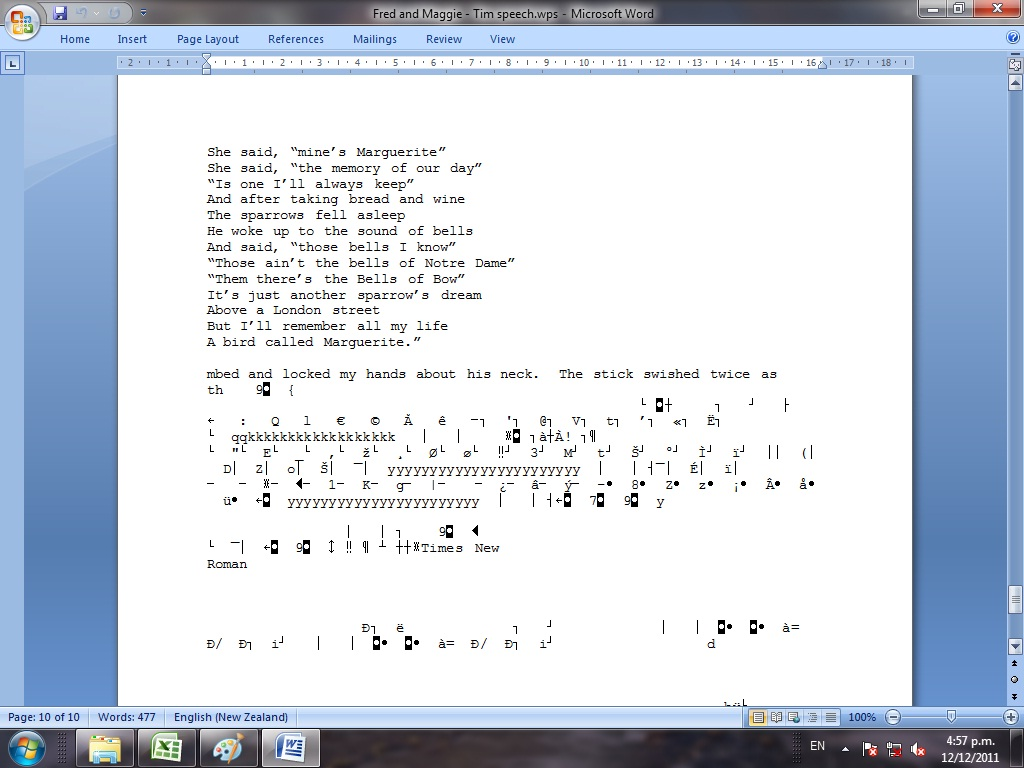button: (76, 728, 135, 768), (138, 728, 197, 768), (200, 728, 259, 768), (262, 728, 321, 768), (939, 732, 1002, 765), (7, 728, 46, 768), (5, 4, 41, 41), (267, 32, 325, 46), (974, 1, 1021, 18), (177, 33, 241, 45), (352, 32, 398, 46), (1009, 728, 1024, 768), (4, 51, 25, 75), (918, 1, 947, 18), (425, 33, 465, 45), (1008, 584, 1024, 614), (116, 32, 150, 46), (59, 32, 92, 46), (947, 1, 974, 18), (860, 737, 880, 759), (885, 737, 905, 759), (908, 737, 928, 759), (488, 33, 518, 46), (884, 707, 902, 726), (749, 707, 767, 726), (767, 707, 785, 726), (785, 707, 803, 726), (803, 707, 821, 726), (822, 707, 840, 726), (807, 737, 827, 754), (1006, 56, 1024, 74), (51, 4, 69, 21), (1008, 638, 1024, 656), (1007, 73, 1023, 90), (1002, 709, 1019, 725), (106, 5, 123, 20), (75, 4, 90, 20), (1006, 29, 1020, 45), (945, 707, 957, 724), (838, 742, 852, 755), (1009, 657, 1021, 670), (1009, 673, 1021, 686), (1009, 691, 1021, 704), (138, 6, 149, 18), (817, 60, 828, 70), (91, 9, 102, 18), (202, 52, 212, 61), (202, 61, 212, 69), (202, 69, 211, 75)
common: (171, 709, 290, 725), (6, 710, 82, 724), (95, 709, 158, 723), (847, 710, 878, 724)
container: (1, 1, 1024, 730), (1, 50, 1024, 708), (117, 74, 912, 707), (1, 729, 1024, 768), (1, 25, 1024, 50), (1, 706, 1024, 728), (116, 52, 916, 72), (1008, 74, 1024, 655), (685, 1, 1024, 25), (801, 729, 1009, 766), (845, 707, 1022, 728), (884, 707, 1020, 727), (44, 3, 133, 24), (749, 707, 840, 727), (75, 3, 103, 21)
header: (372, 5, 655, 21)
text-input: (200, 136, 824, 706)
